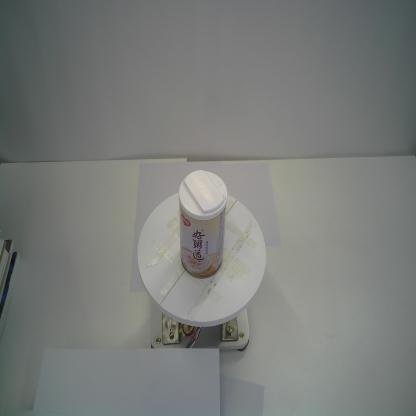Canned Food: (177, 167, 229, 280)
